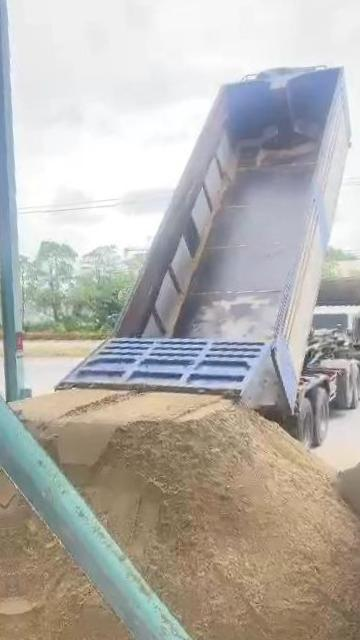sand: (20, 390, 360, 640), (4, 480, 183, 640), (336, 441, 360, 552)
